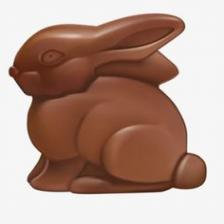brown: (9, 15, 206, 193)
